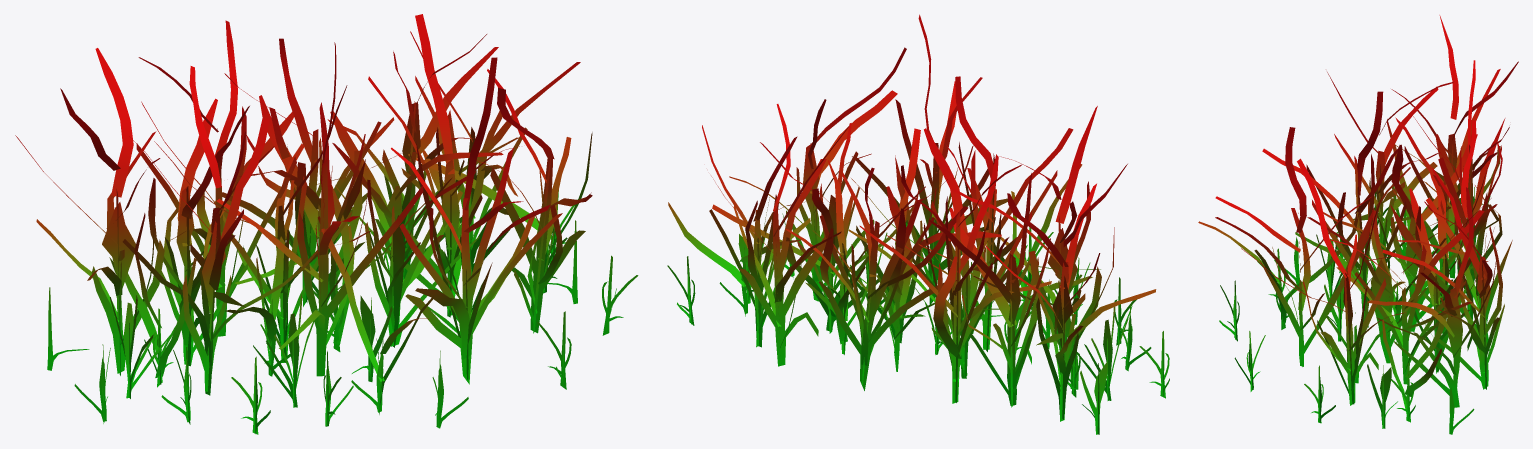
Rendered from Var3_LOD0.fbx.
3 renders of one model, left to right at view 1: azimuth 30°, elevation 25°; view 2: azimuth 150°, elevation 25°; view 3: azimuth 270°, elevation 25°, orthographic. The views are drawn at different scales.
Visible parts, largest first — view 1: _njo5_Var3_LOD0; view 2: _njo5_Var3_LOD0; view 3: _njo5_Var3_LOD0.
Part boxes in pixels (x1,y1,x2,y2): _njo5_Var3_LOD0: (15,14,638,434); _njo5_Var3_LOD0: (667,14,1169,434); _njo5_Var3_LOD0: (1198,15,1518,434).
Size of the model in its own units: 43.54 by 25.14 by 28.56.
